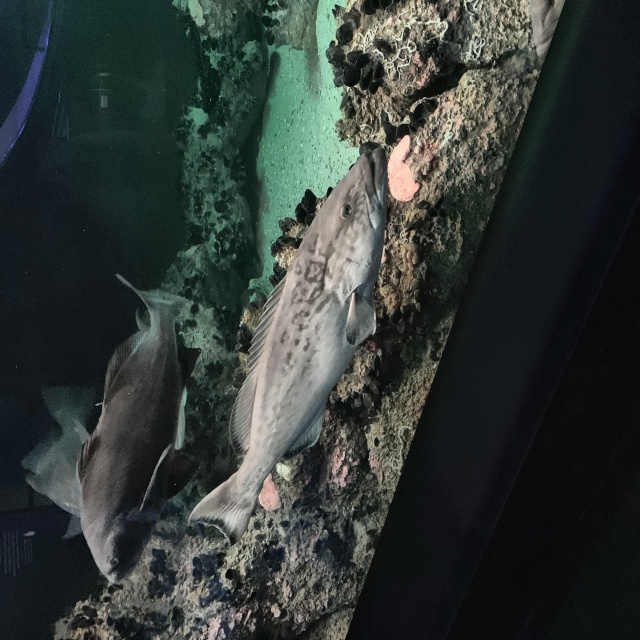fish: (188, 142, 393, 553), (73, 267, 206, 595), (15, 365, 107, 557)
